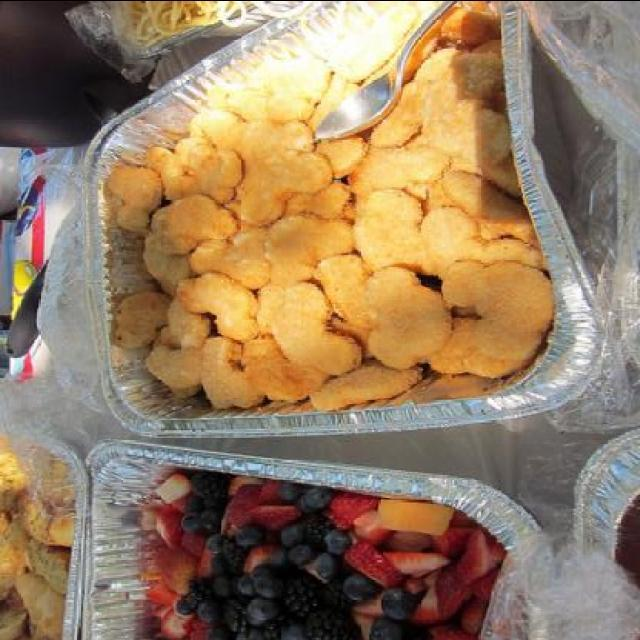Chicken nugget: (109, 1, 588, 437)
Mushroom: (356, 532, 494, 608)
